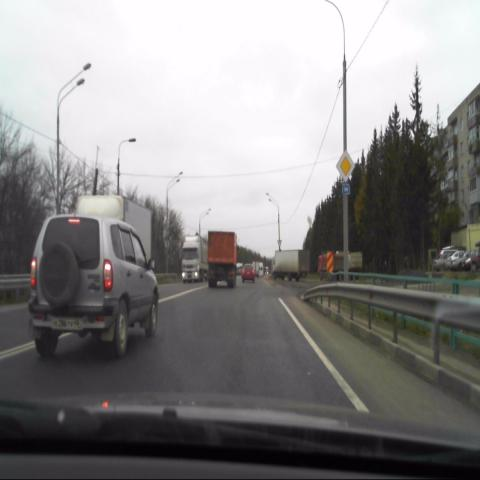2_1: (336, 149, 356, 181)
